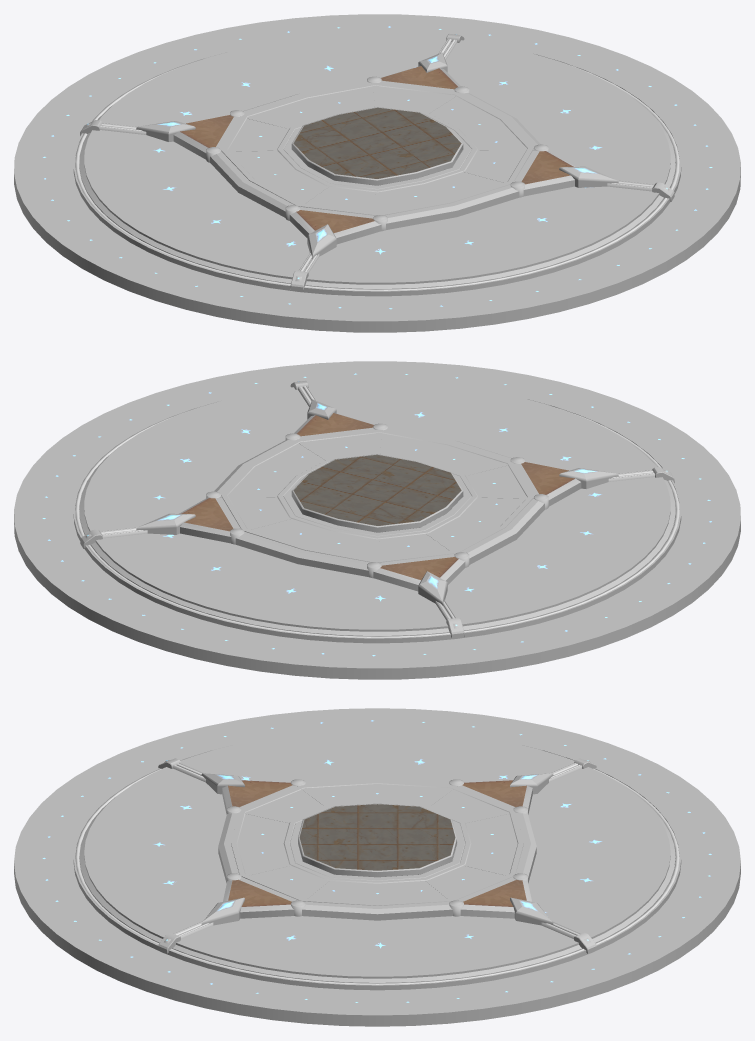
Rendered from prop_AscendantPlatform.fbx.
3 renders of one model, top to bottom at view 1: azimuth 30°, elevation 25°; view 2: azimuth 150°, elevation 25°; view 3: azimuth 270°, elevation 25°, orthographic.
Parts seen in each view (by area): view 1: prop_AscendantPlatform; view 2: prop_AscendantPlatform; view 3: prop_AscendantPlatform.
Part boxes in pixels (bbox=[...]): prop_AscendantPlatform: bbox=[14, 14, 740, 332]; prop_AscendantPlatform: bbox=[14, 361, 740, 679]; prop_AscendantPlatform: bbox=[14, 708, 740, 1026].
Size of what is drawn, in the model's own units: 3291 by 178 by 3291.
